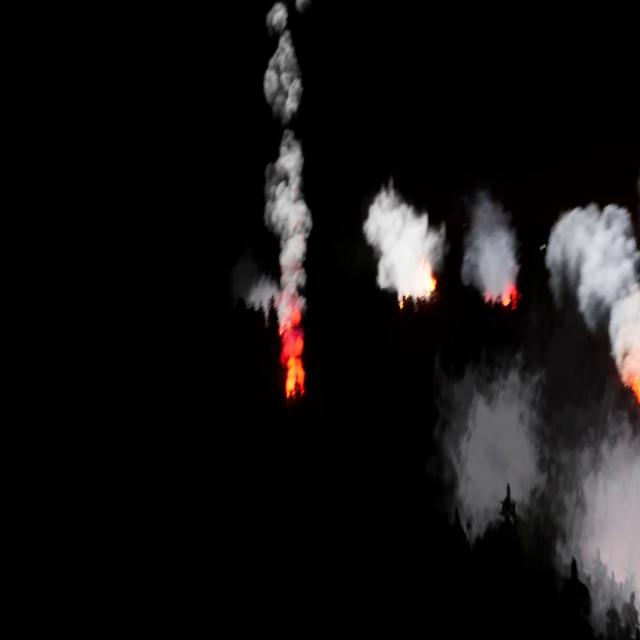fire: (275, 306, 302, 399), (400, 264, 438, 296), (492, 282, 522, 308), (625, 351, 639, 406)
smoke: (442, 368, 640, 625), (239, 0, 312, 308), (542, 203, 639, 390), (363, 179, 448, 294), (461, 183, 516, 291)
